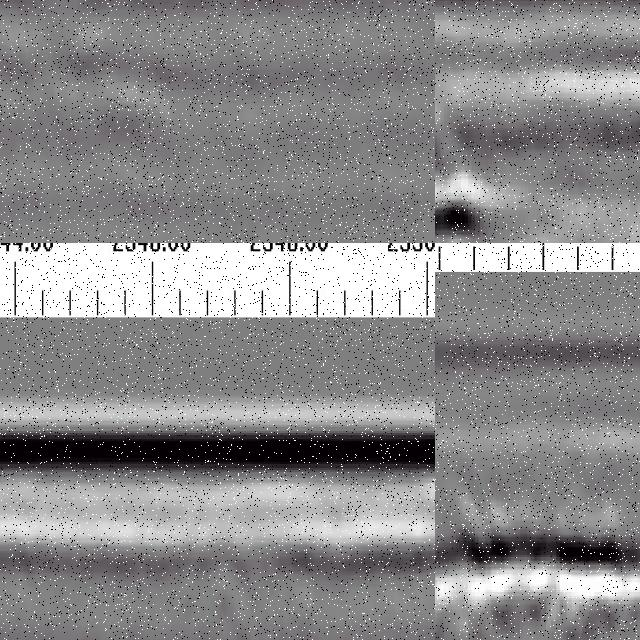crack: (436, 103, 481, 244)
loose: (436, 477, 626, 640)
